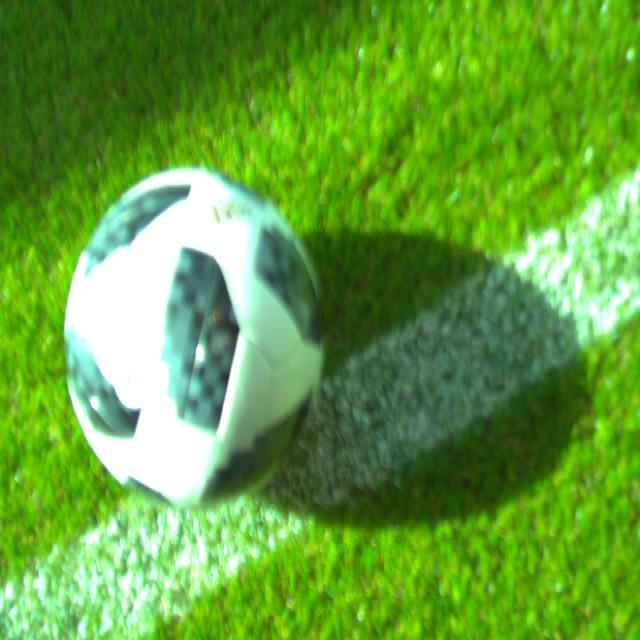ball: (65, 164, 324, 509)
